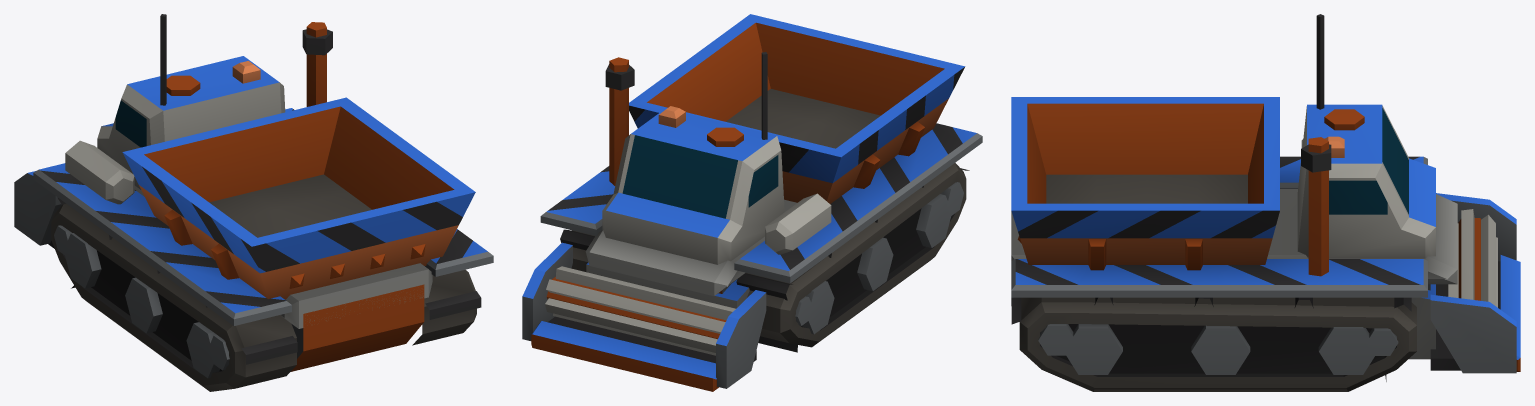
3 views of the same model, side by side, from view 1: azimuth 30°, elevation 25°; view 2: azimuth 150°, elevation 25°; view 3: azimuth 270°, elevation 25° (orthographic). The views are drawn at different scales.
Parts seen in each view (by area): view 1: body, spinSprocketL; view 2: body, spinReel, spinSprocketL; view 3: body, spinReel, spinSprocketR, spinIdlerR.
Boxes of the visible parts, bbox=[...] form: body: bbox=[14, 14, 493, 391]; spinSprocketL: bbox=[209, 335, 229, 370]; body: bbox=[522, 14, 982, 391]; spinReel: bbox=[545, 266, 735, 355]; spinSprocketL: bbox=[940, 182, 963, 215]; body: bbox=[1011, 14, 1520, 391]; spinReel: bbox=[1443, 209, 1497, 307]; spinSprocketR: bbox=[1038, 324, 1074, 355]; spinIdlerR: bbox=[1366, 328, 1398, 355].
Bounding box in the file's own units: 1.16 × 1.2 × 1.89.
